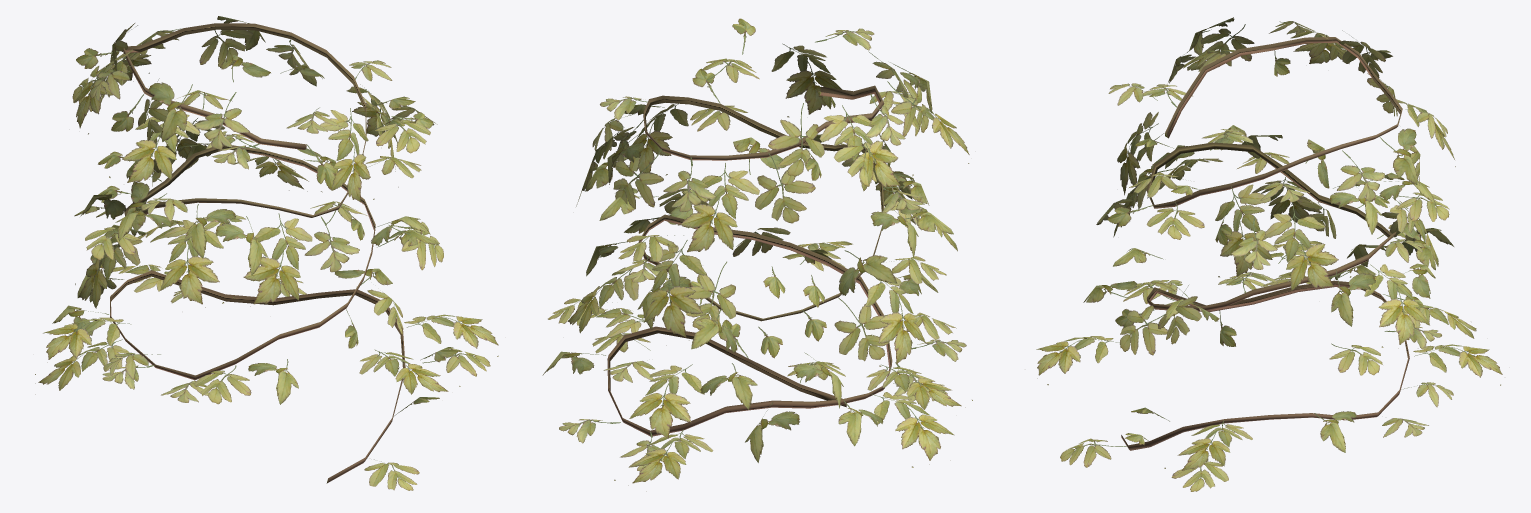
Rendered from SM_Plant_ForestTree.fbx.
3 renders of one model, left to right at view 1: azimuth 30°, elevation 25°; view 2: azimuth 150°, elevation 25°; view 3: azimuth 270°, elevation 25°, orthographic. The views are drawn at different scales.
Parts seen in each view (by area): view 1: SM_Plant_ForestTree; view 2: SM_Plant_ForestTree; view 3: SM_Plant_ForestTree.
Boxes of the visible parts, x1=… form: SM_Plant_ForestTree: x1=35, y1=16, x2=498, y2=490; SM_Plant_ForestTree: x1=542, y1=18, x2=972, y2=491; SM_Plant_ForestTree: x1=1036, y1=17, x2=1502, y2=491.
Bounding box in the file's own units: 128 × 134 × 109.
1 material, 1 textured.
